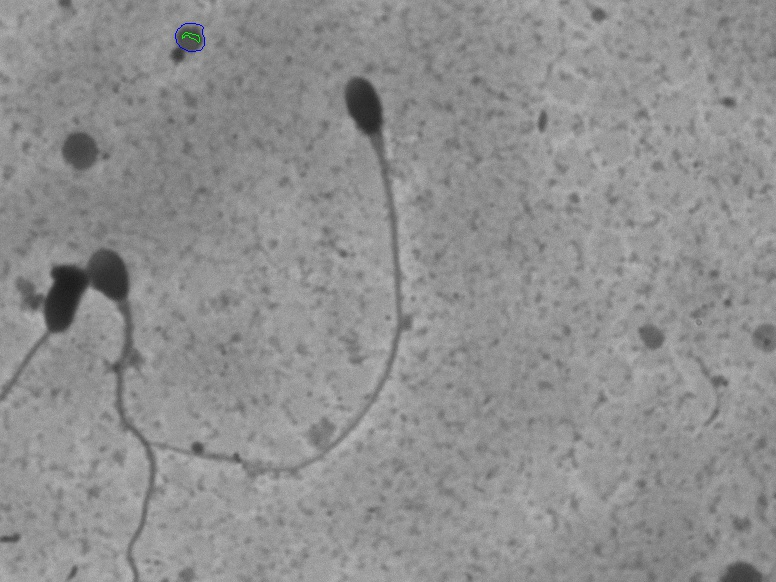Normal: (146, 59, 417, 481), (81, 235, 163, 569)
